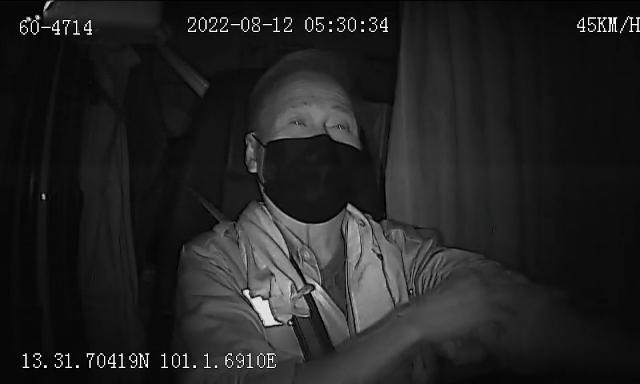SafeDriving: (324, 114, 355, 134), (284, 110, 314, 130)
Seatbelt: (201, 200, 355, 352)
